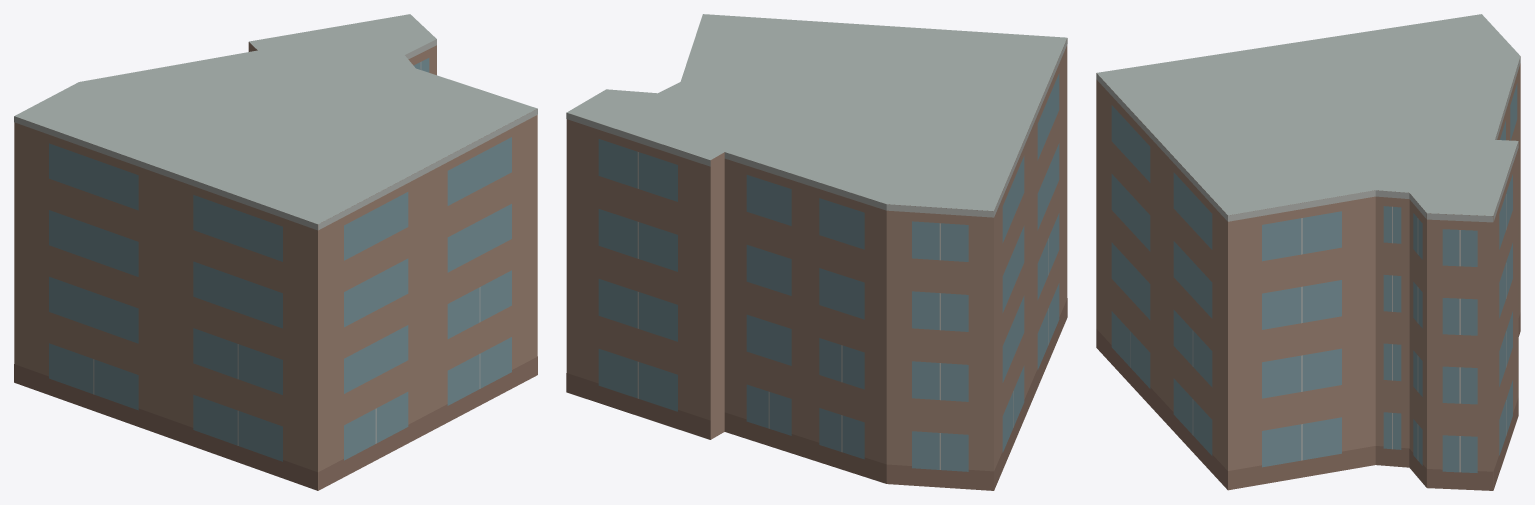
The model's file is survey-upis-32911339.glb.
3 renders of one model, left to right at view 1: azimuth 30°, elevation 25°; view 2: azimuth 150°, elevation 25°; view 3: azimuth 270°, elevation 25°, orthographic. The views are drawn at different scales.
Visible parts, largest first — view 1: survey-upis-32911339.tmp; view 2: survey-upis-32911339.tmp; view 3: survey-upis-32911339.tmp.
Part boxes in pixels (box(x1,y1,x2,y2)): survey-upis-32911339.tmp: box(14, 14, 537, 490); survey-upis-32911339.tmp: box(566, 14, 1067, 490); survey-upis-32911339.tmp: box(1096, 14, 1520, 490).
Size of the model in its own units: 16.73 by 10.6 by 14.84.
